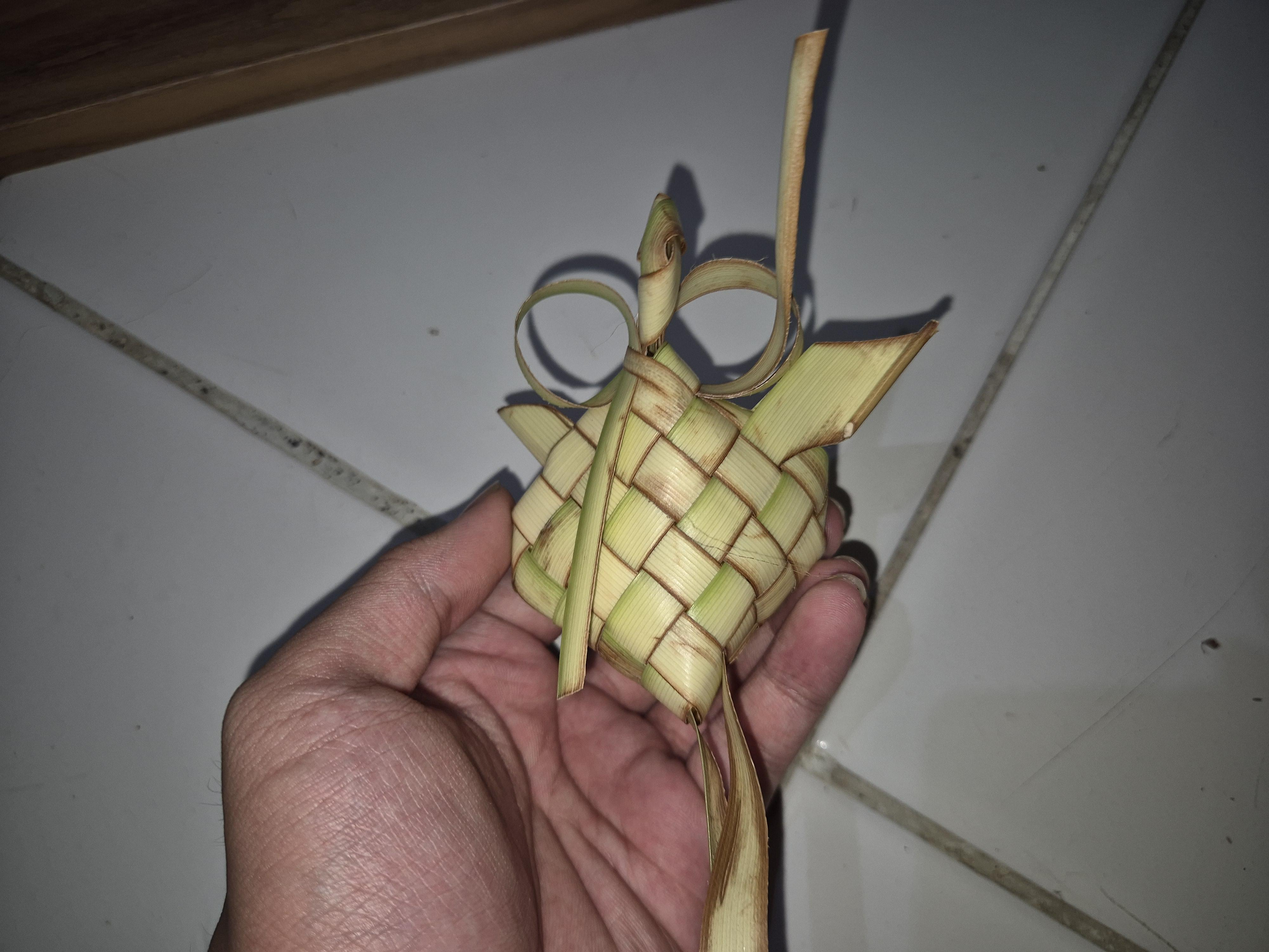Tipat Dampulan: (499, 195, 936, 720)
